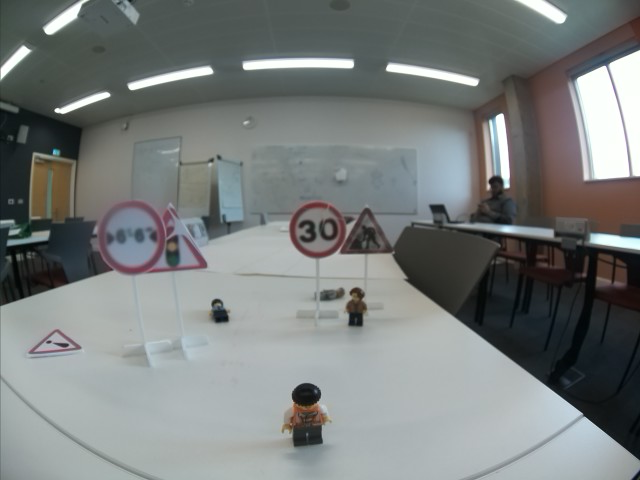30mph: (287, 199, 346, 259)
6ft6: (95, 199, 166, 275)
Lego Man: (281, 379, 331, 448), (343, 285, 370, 325), (207, 296, 231, 324), (313, 285, 346, 300)
Roadworks: (341, 206, 397, 255)
Traffic lights: (158, 202, 210, 270)
Warning: (25, 326, 86, 359)
